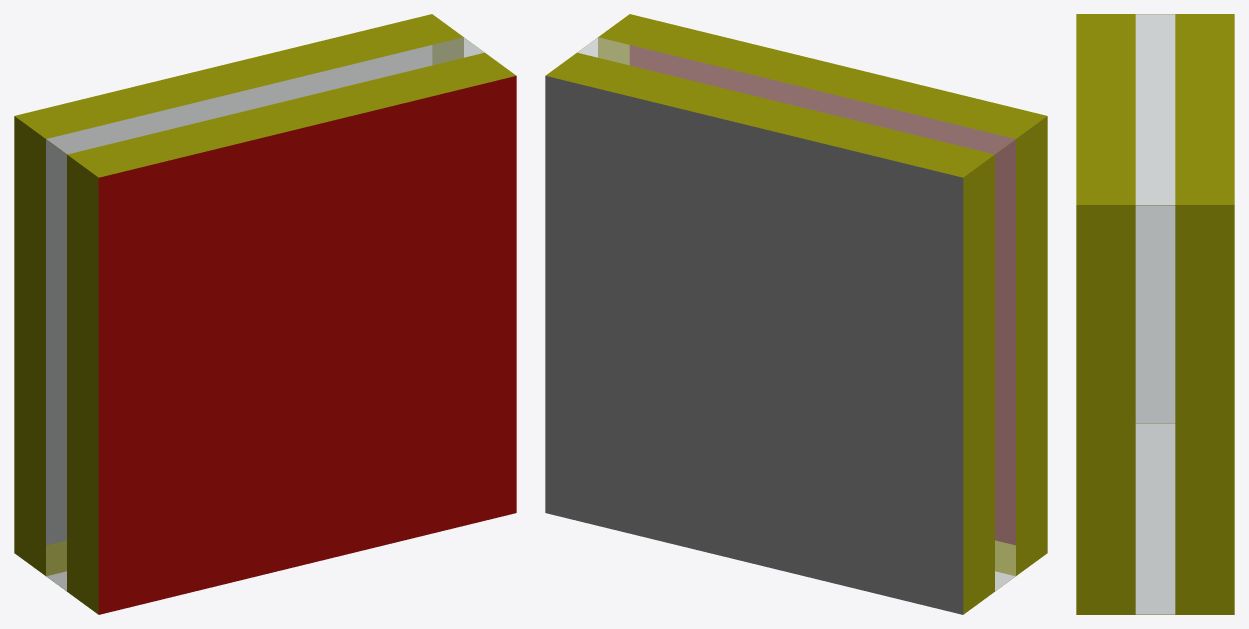
The model's file is Minimal.obj.
The picture shows the model from 3 angles, left to right: view 1: azimuth 30°, elevation 25°; view 2: azimuth 150°, elevation 25°; view 3: azimuth 270°, elevation 25°; orthographic projection. The views are drawn at different scales.
Bounding box in the file's own units: 10 × 10 × 3.5.
